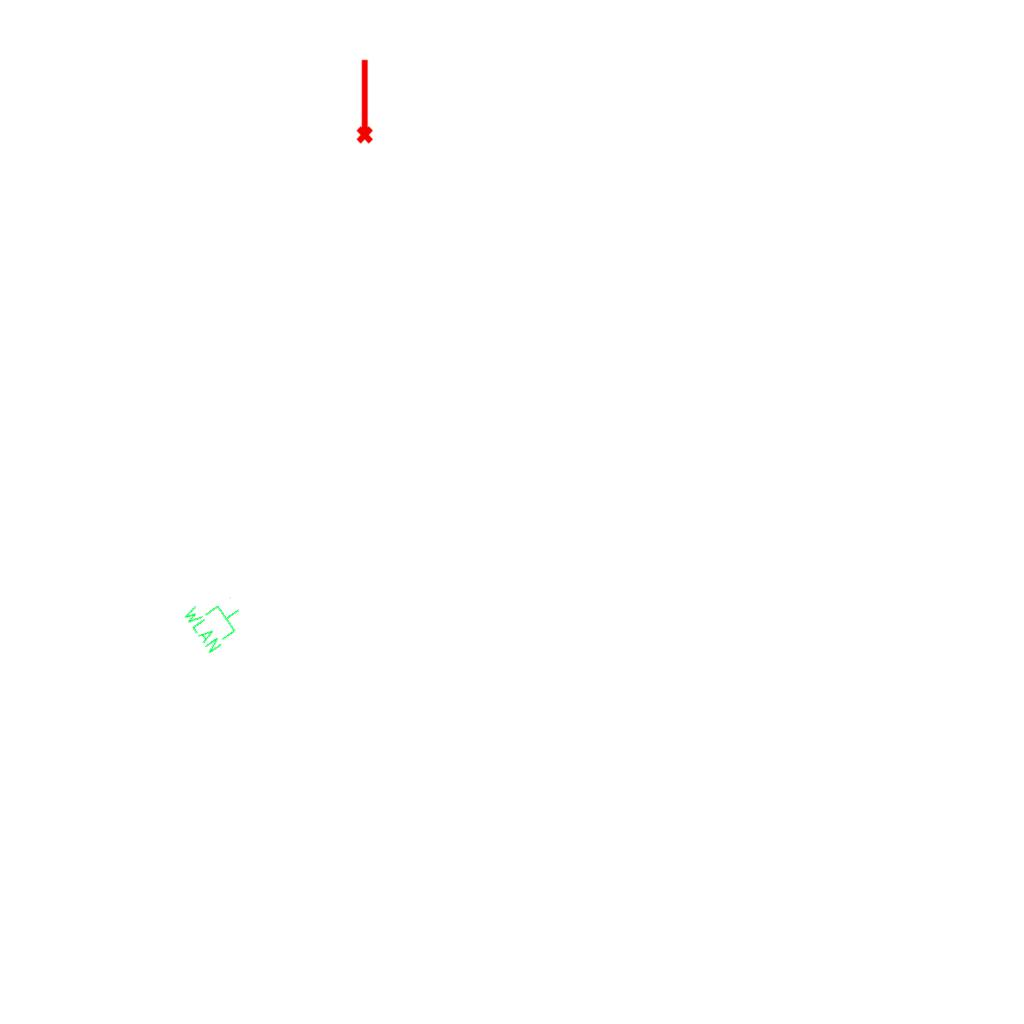ASR_Ansaugoeffnung: (352, 57, 375, 145)
WLAN: (179, 583, 253, 657)
